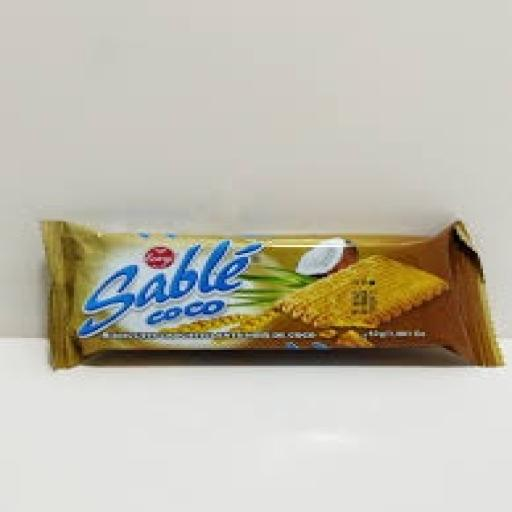sable: (18, 174, 512, 403)
